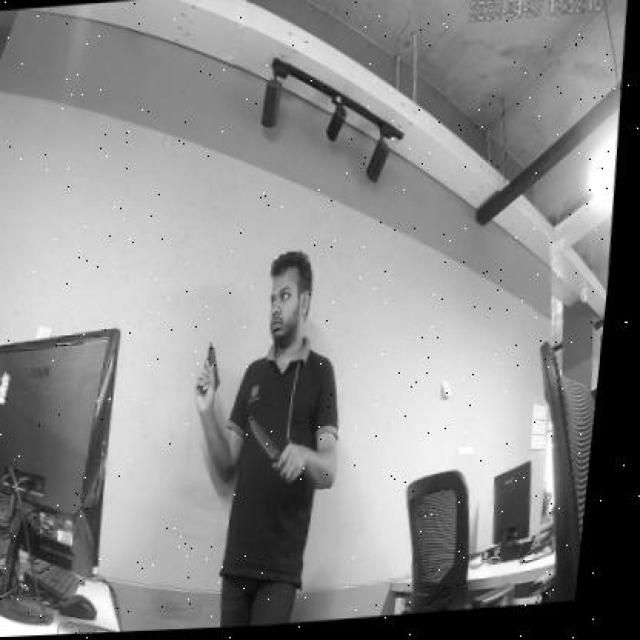weapon: (195, 343, 225, 398)
